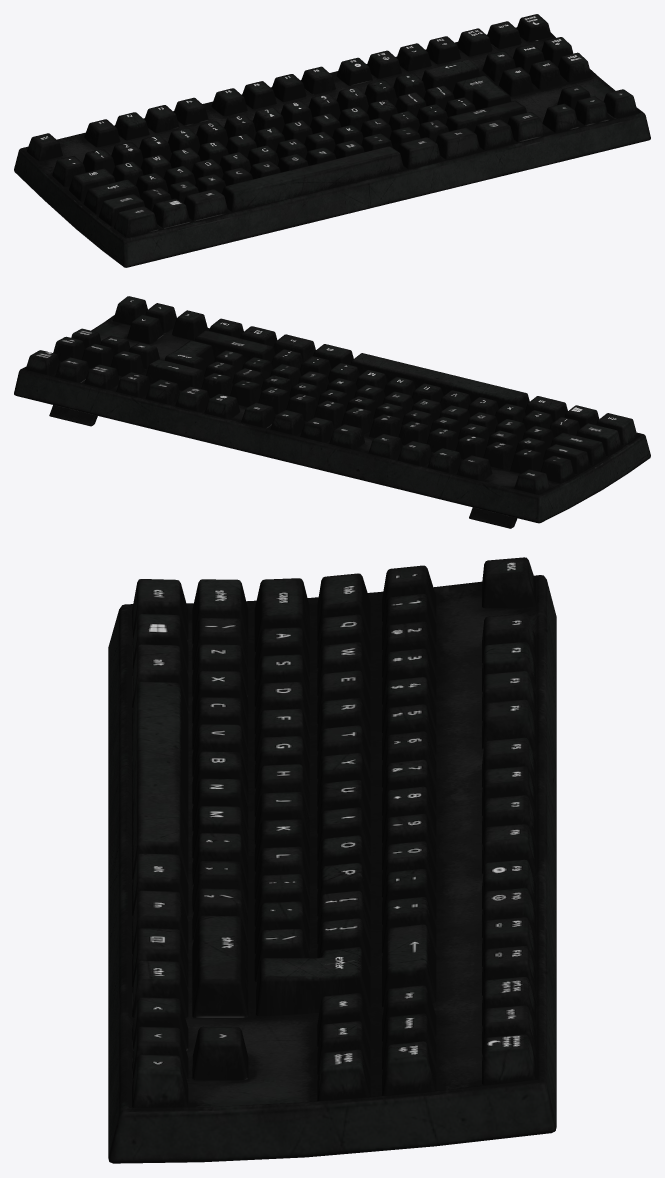
Rendered from keyboard.glb.
3 views of the same model, one above another, from view 1: azimuth 30°, elevation 25°; view 2: azimuth 150°, elevation 25°; view 3: azimuth 270°, elevation 25° (orthographic). The views are drawn at different scales.
Visible parts, largest first — view 1: keyboard; view 2: keyboard; view 3: keyboard.
Part boxes in pixels (bbox=[...]): keyboard: bbox=[14, 14, 650, 267]; keyboard: bbox=[14, 296, 650, 528]; keyboard: bbox=[108, 557, 556, 1163].
Bounding box in the file's own units: 198 × 19.58 × 72.86.
Materials: 1 (1 with a texture image).
